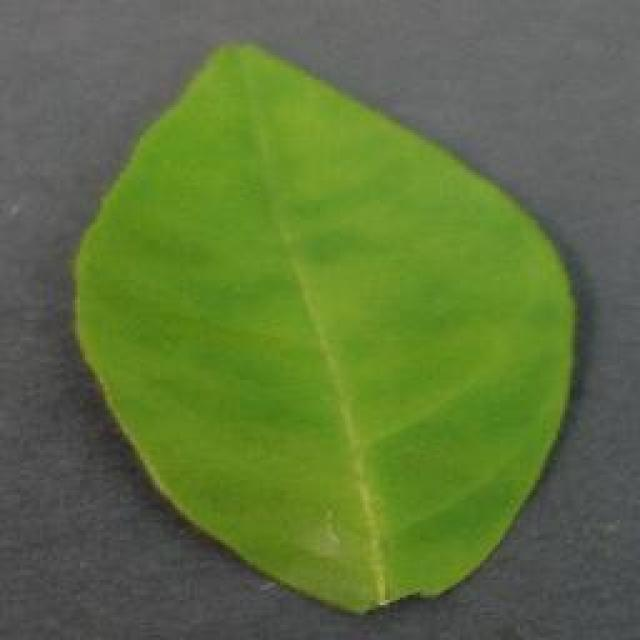Orange_Haunglongbing_Citrus_greening: (107, 79, 538, 531)
